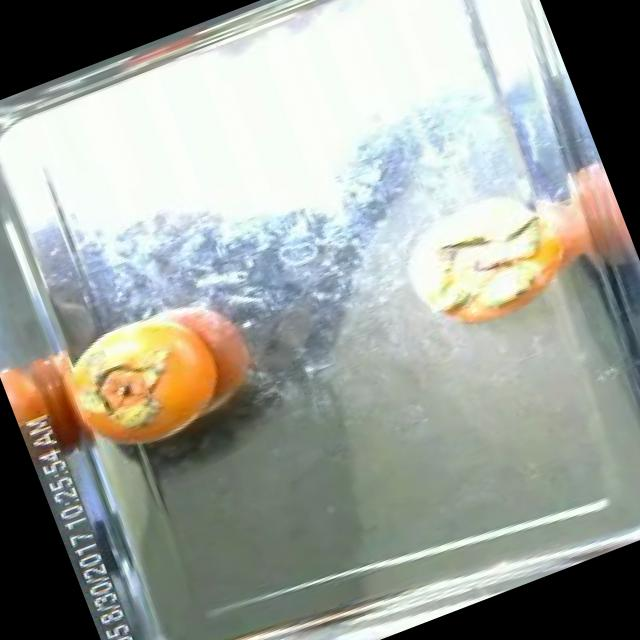Fruit: (45, 262, 299, 485)
